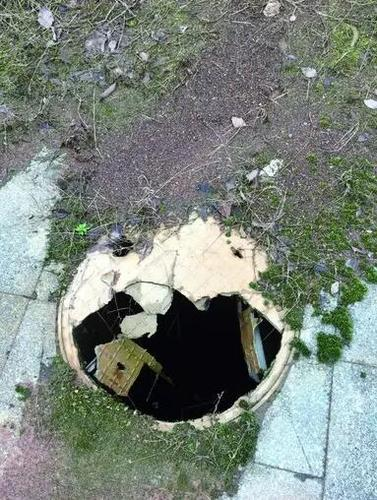broke: (31, 205, 321, 440)
